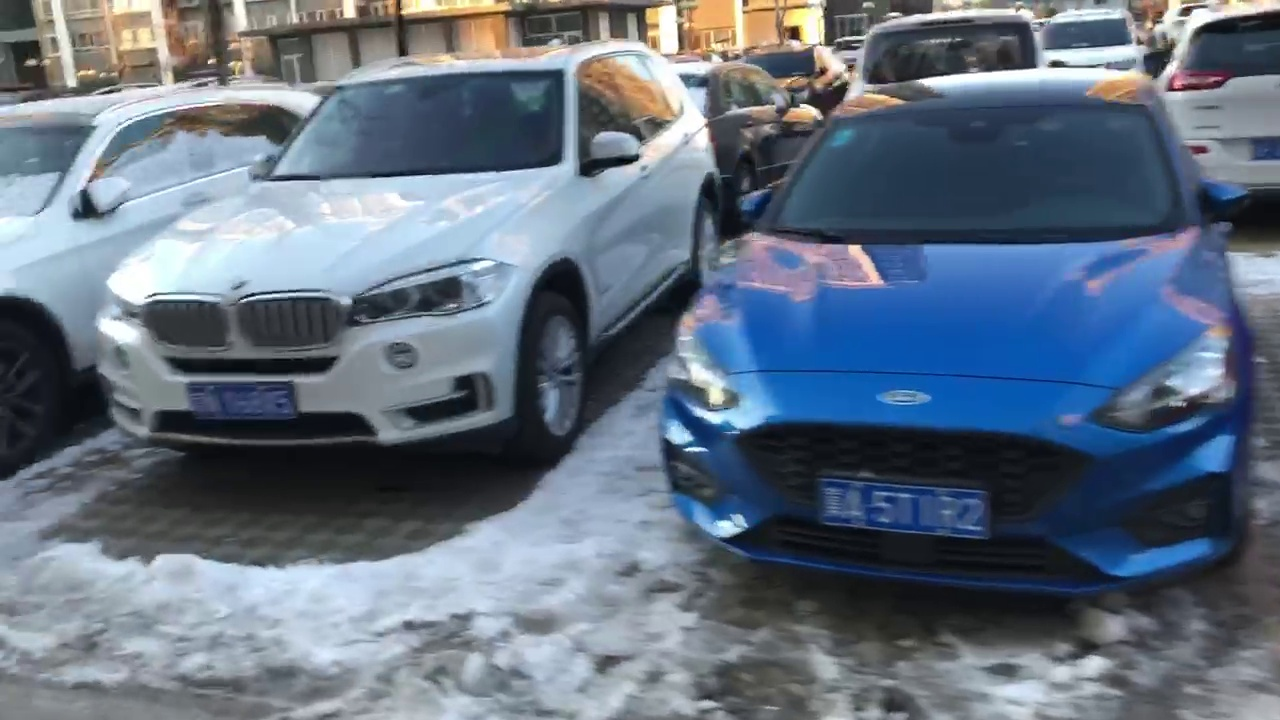plate: (813, 486, 995, 534), (180, 375, 307, 424)
